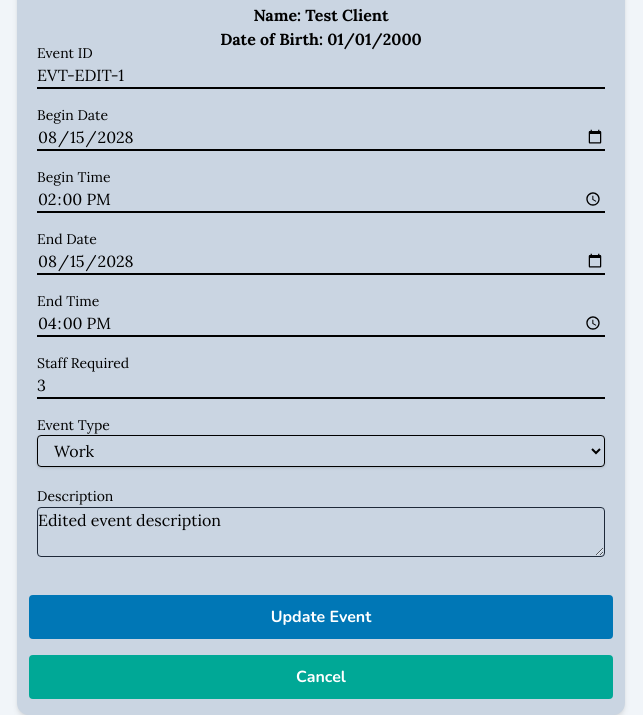
Test: EditClientEventPage › should display field errors from the API
(page scrolled)
Click the button "Update Event" at {"x": 321, "y": 617}, box x1=29 y1=595 x2=613 y2=639
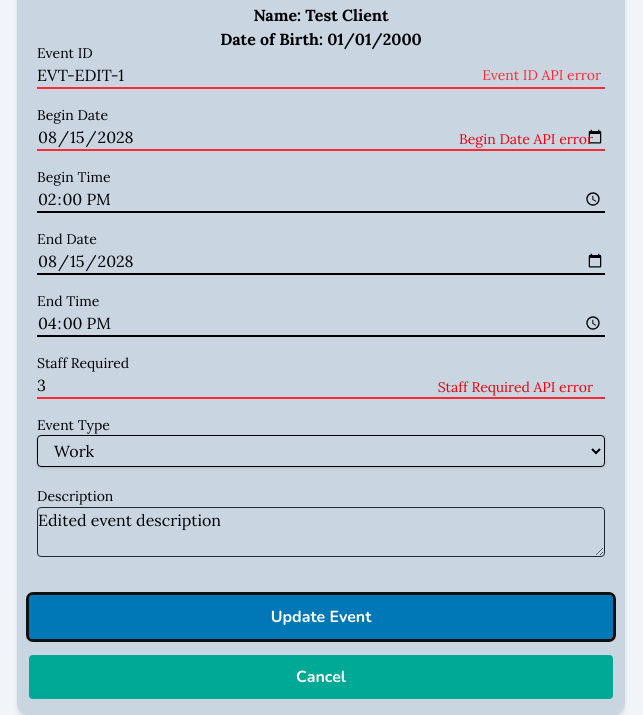
expect the text "Event ID API error" is shown: met, box x1=482 y1=65 x2=601 y2=85
expect the text "Begin Date API error" is shown: met, box x1=459 y1=129 x2=593 y2=149
expect the text "Staff Required API error" is shown: met, box x1=438 y1=377 x2=593 y2=397
